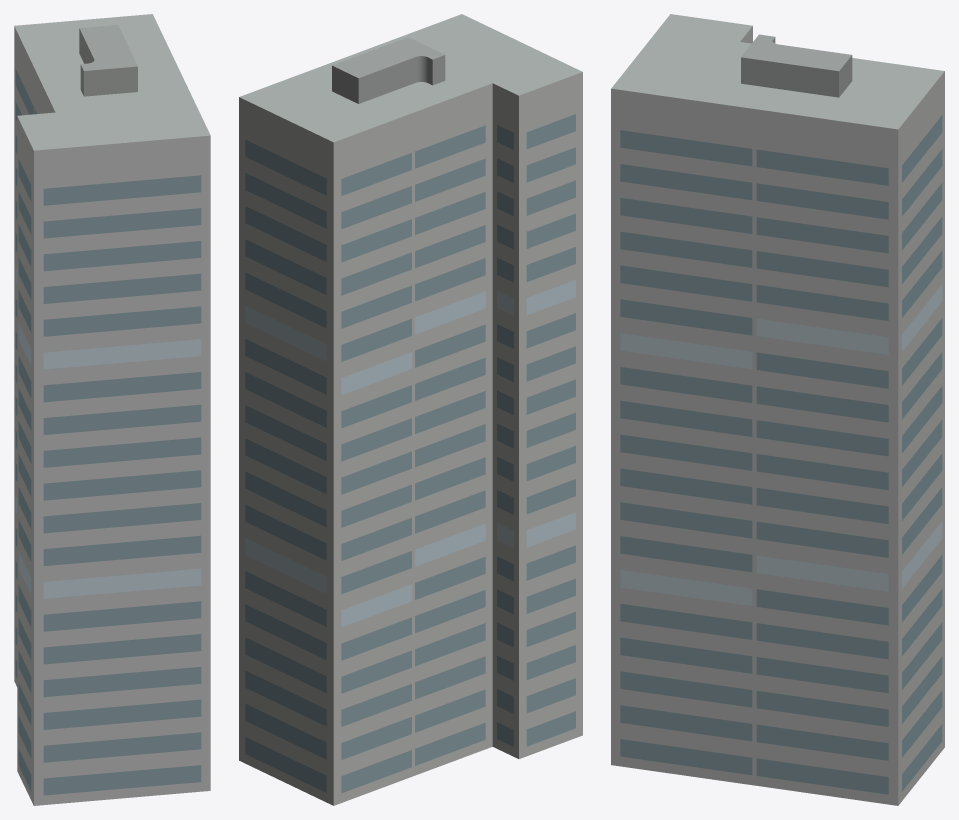
The model's file is fallback-dh-honor-hills-306.glb.
3 views of the same model, side by side, from view 1: azimuth 30°, elevation 25°; view 2: azimuth 150°, elevation 25°; view 3: azimuth 270°, elevation 25° (orthographic). The views are drawn at different scales.
Parts seen in each view (by area): view 1: fallback-dh-honor-hills-306; view 2: fallback-dh-honor-hills-306; view 3: fallback-dh-honor-hills-306.
Boxes of the visible parts, box(x1,y1,x2,y2) form: fallback-dh-honor-hills-306: box(14, 14, 210, 805); fallback-dh-honor-hills-306: box(239, 14, 582, 805); fallback-dh-honor-hills-306: box(611, 14, 944, 805).
Size of the model in its own units: 22.55 by 64 by 27.54.
